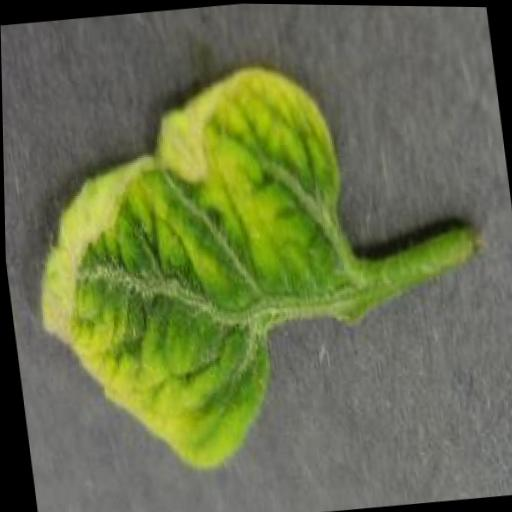Yellow Leaf Curl Virus: (12, 53, 375, 482)
